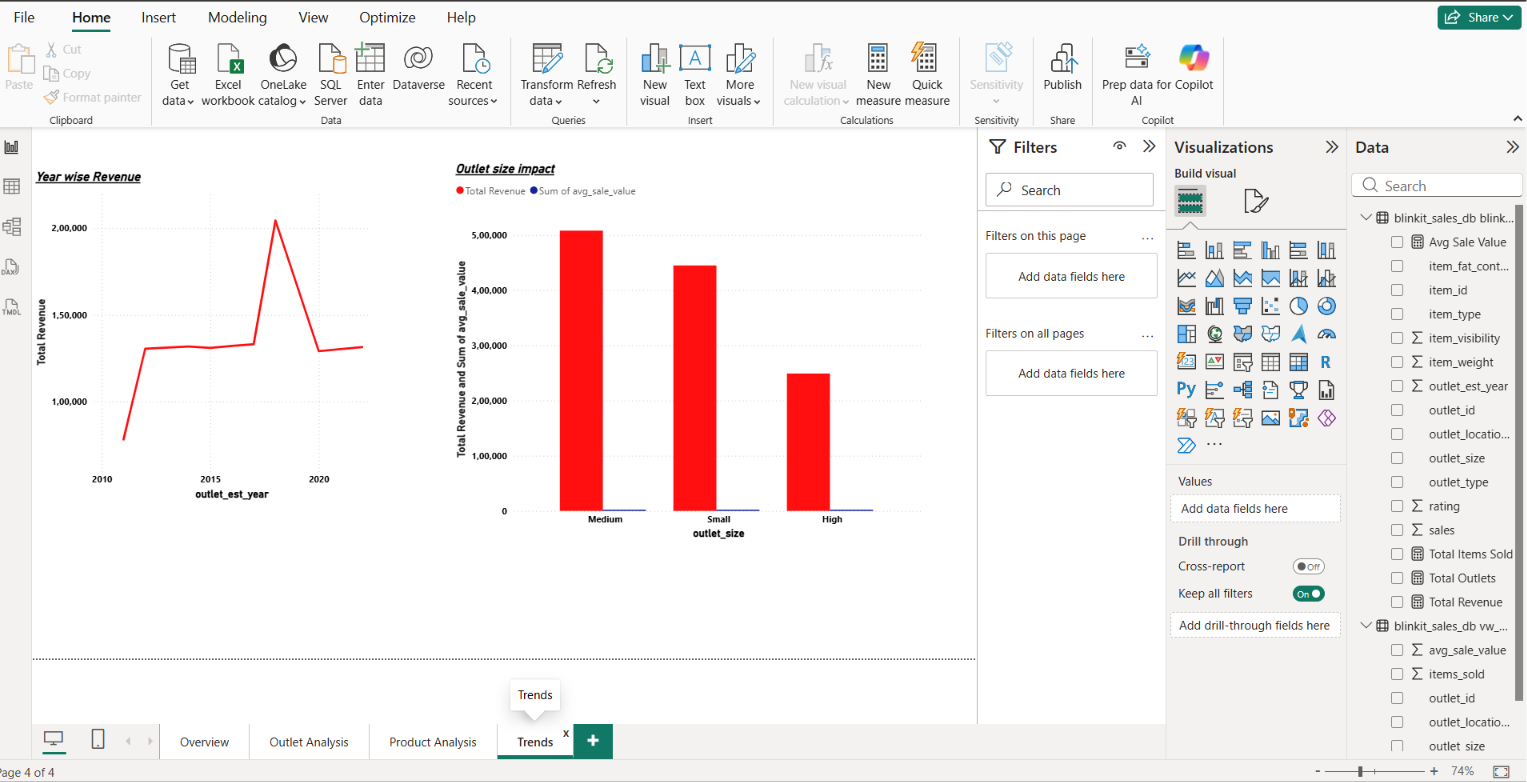

Layout of this report page (visuals, bound fields, positions):
{"tool":"powerbi","page":{"name":"Trends ","canvas":[1280,720],"ordinal":3},"visuals":[{"type":"lineChart","title":"Year wise Revenue ","fields":{"Category":["blinkit_sales_db blinkit_cleaned.outlet_est_year"],"Y":["blinkit_sales_db blinkit_cleaned.Total Revenue"]},"box":[0,56.3,466.6,452.8],"z":0},{"type":"clusteredColumnChart","title":"Outlet size impact ","fields":{"Category":["blinkit_sales_db blinkit_cleaned.outlet_size"],"Y":["blinkit_sales_db blinkit_cleaned.Total Revenue","Sum(blinkit_sales_db vw_outlet_performance.avg_sale_value)"]},"box":[569,46.1,643.5,517.5],"z":1}]}

Visuals, with their boxes on the page's 1280x720 design canvas (x1, y1, x2, y2). These are canvas units, not pixel positions in the 1527x782 screenshot, which may show the page scaled, cropped or inside an application window:
"Year wise Revenue " lineChart: box(0, 56, 467, 509)
"Outlet size impact " clusteredColumnChart: box(569, 46, 1212, 564)
